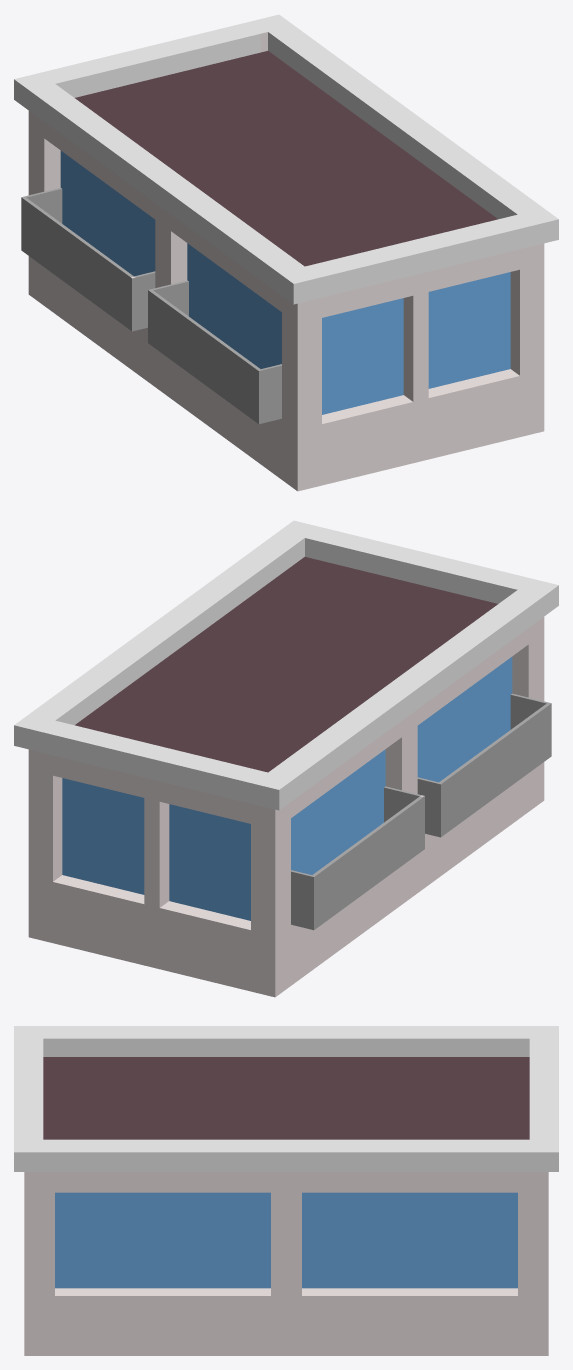
The model's file is building_1x2_7_r.glb.
3 views of the same model, one above another, from view 1: azimuth 30°, elevation 25°; view 2: azimuth 150°, elevation 25°; view 3: azimuth 270°, elevation 25° (orthographic). The views are drawn at different scales.
Parts seen in each view (by area): view 1: Cube.002; view 2: Cube.002; view 3: Cube.002.
Part boxes in pixels (left/top/right/bottom): Cube.002: left=14, top=14, right=558, bottom=491; Cube.002: left=14, top=520, right=558, bottom=997; Cube.002: left=14, top=1026, right=558, bottom=1355.
Bounding box in the file's own units: 1.98 × 1.45 × 3.44.
